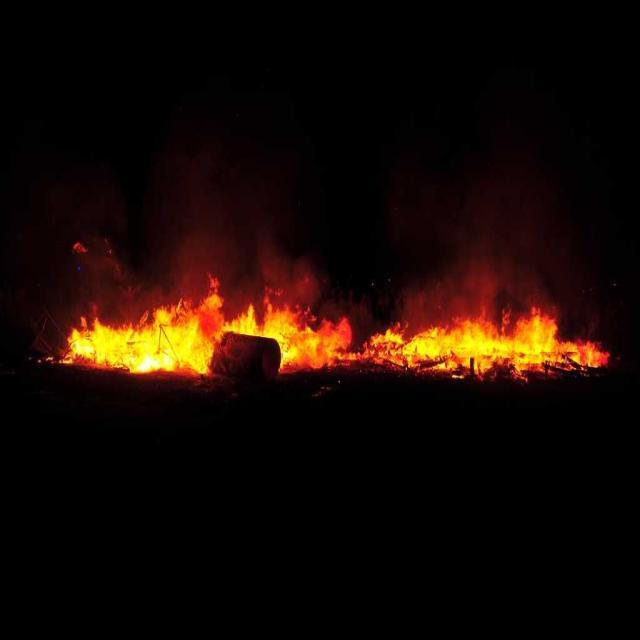Fire: (418, 328, 556, 364), (86, 332, 206, 370), (282, 327, 346, 362)
